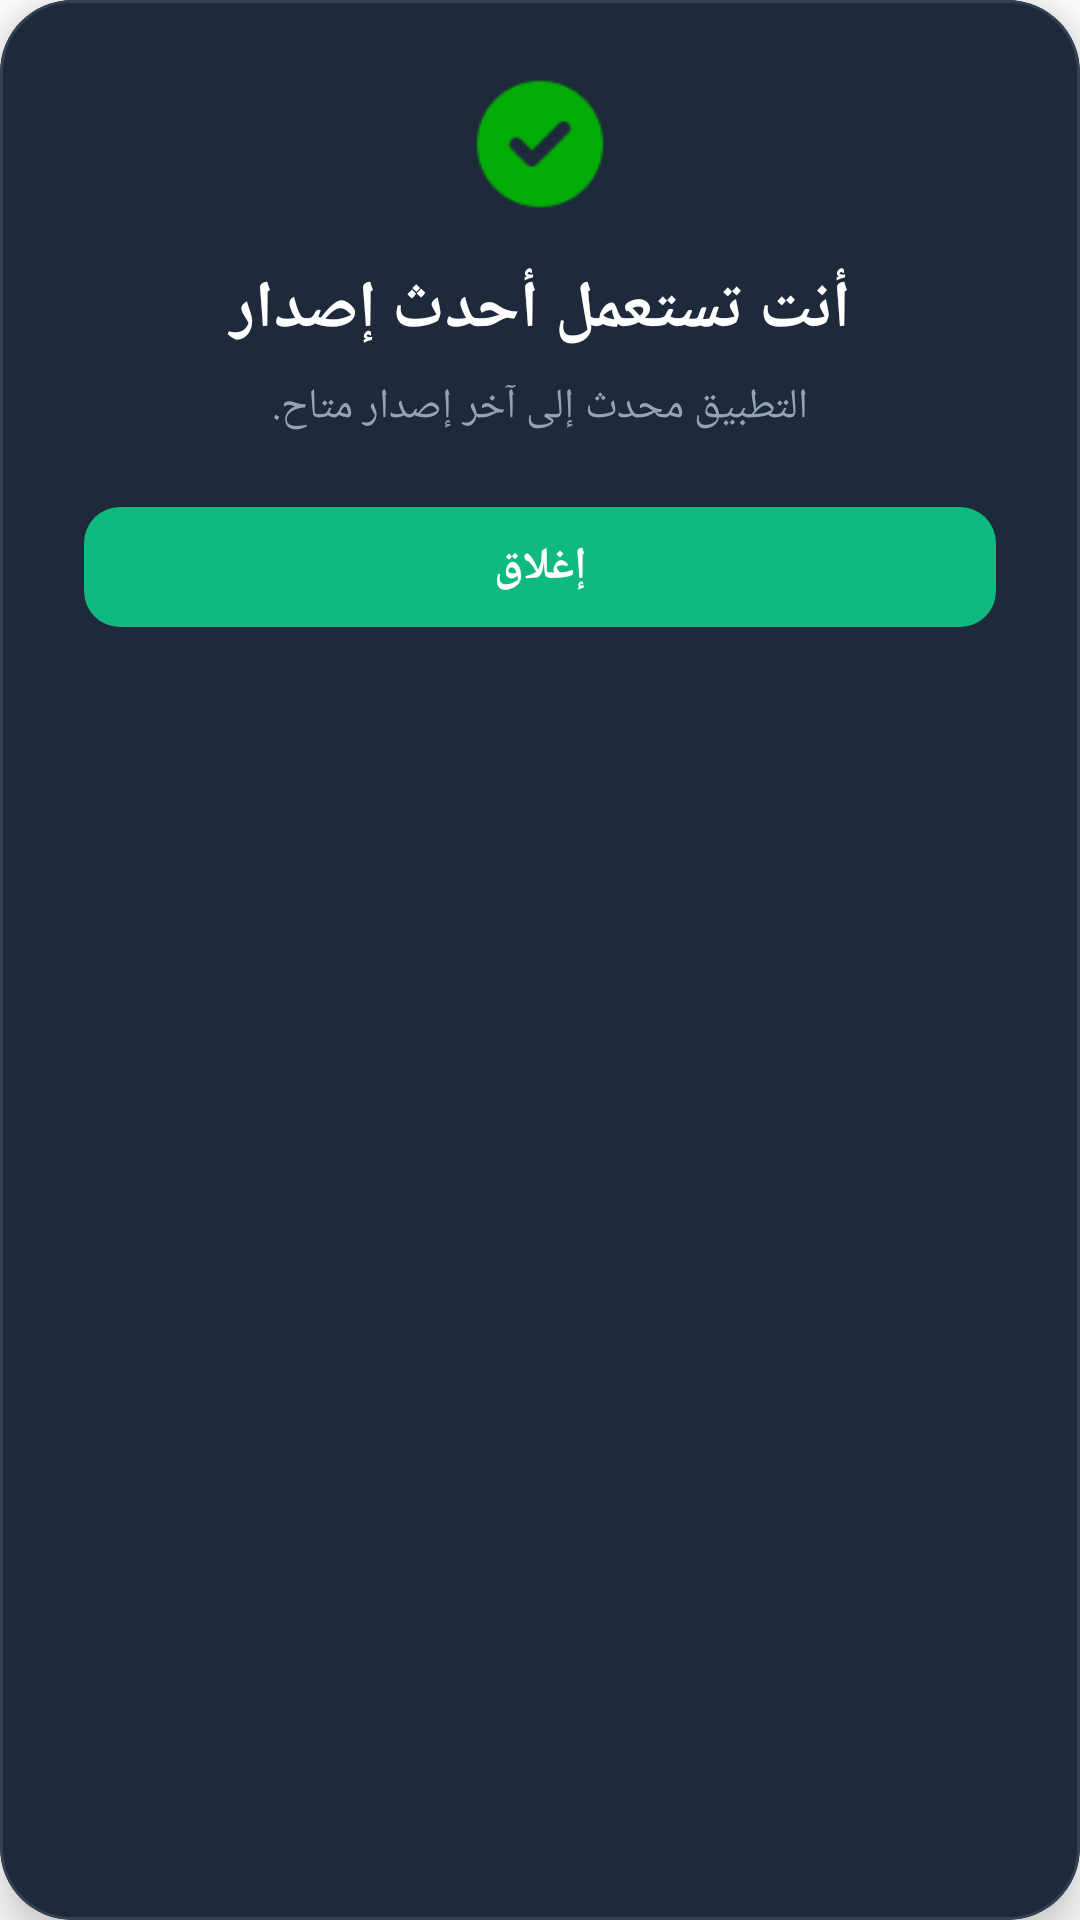

Locate icon controls on the screen. Image size 1080 × 1920, boxes as [x1, y1, x2, y2].
success: [476, 80, 604, 208]
